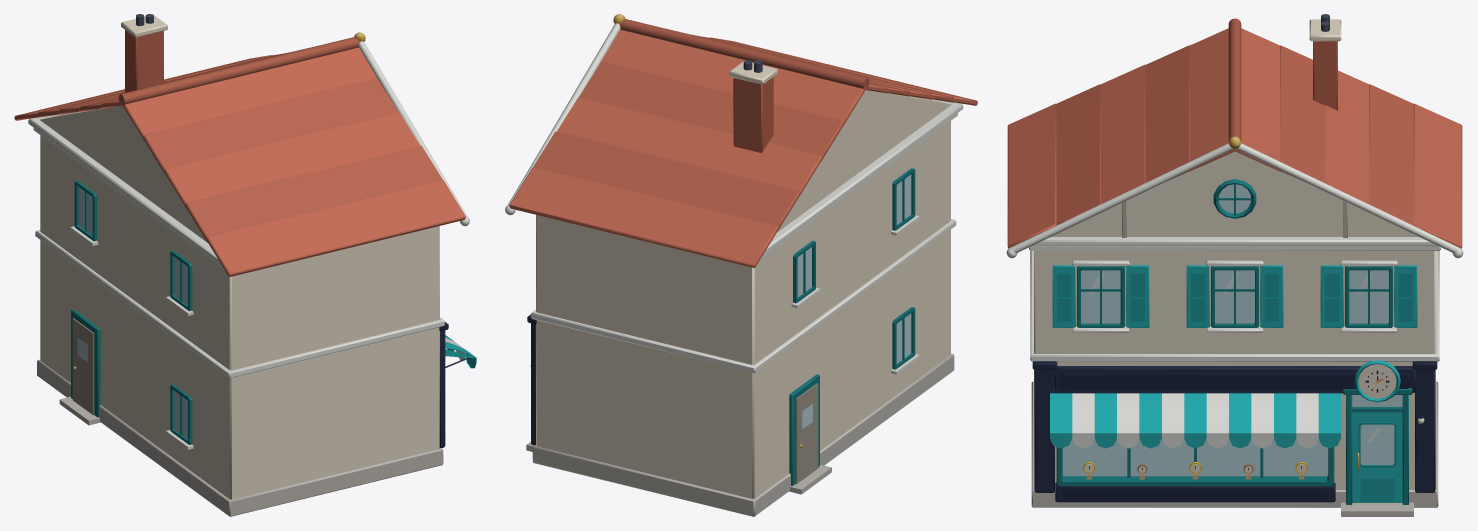
Rendered from house_e.glb.
3 views of the same model, side by side, from view 1: azimuth 30°, elevation 25°; view 2: azimuth 150°, elevation 25°; view 3: azimuth 270°, elevation 25° (orthographic). The views are drawn at different scales.
Visible parts, largest first — view 1: HouseE; view 2: HouseE; view 3: HouseE.
Part boxes in pixels (box(x1,y1,x2,y2)): HouseE: box(14, 14, 476, 516); HouseE: box(505, 14, 977, 516); HouseE: box(1006, 14, 1463, 516).
Size of the model in its own units: 7.1 by 9.85 by 10.
